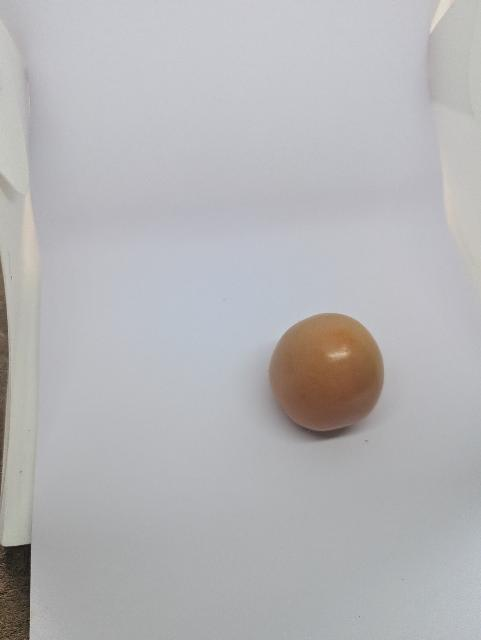turning: (266, 302, 390, 441)
